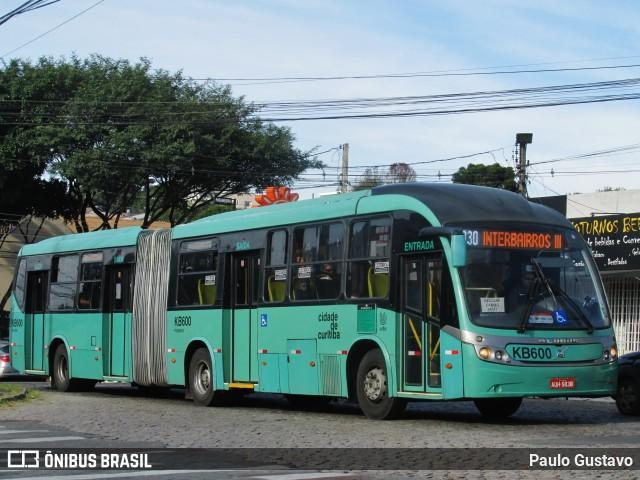INTERBAIRROS III: (481, 227, 565, 251)
